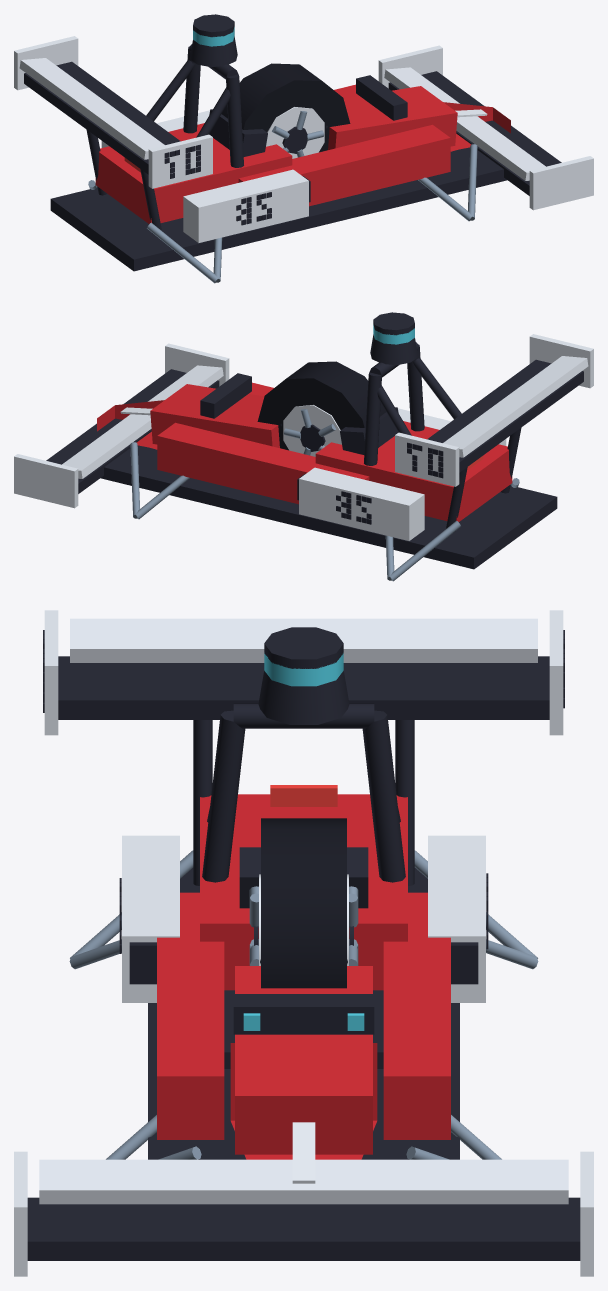
File: formula.glb
The picture shows the model from 3 angles, top to bottom: view 1: azimuth 30°, elevation 25°; view 2: azimuth 150°, elevation 25°; view 3: azimuth 270°, elevation 25°; orthographic projection. The views are drawn at different scales.
Parts seen in each view (by area): view 1: decoration_chassis_formulacarbon, decoration_chassis_formulawhite, bodyPainted, decoration_wheelCylinder_formulatire, decoration_chassis_formulametal, wheelPainted, decoration_wheelCylinder_formulacarbon, decoration_wheelCylinder_formulametal, decoration_chassis_formulalens; view 2: decoration_chassis_formulacarbon, decoration_chassis_formulawhite, bodyPainted, decoration_wheelCylinder_formulatire, decoration_chassis_formulametal, wheelPainted, decoration_wheelCylinder_formulacarbon, decoration_wheelCylinder_formulametal, decoration_chassis_formulalens; view 3: decoration_chassis_formulacarbon, decoration_chassis_formulawhite, bodyPainted, decoration_wheelCylinder_formulatire, decoration_chassis_formulametal, decoration_chassis_formulalens, stopLights, decoration_wheelCylinder_formulametal.
Boxes of the visible parts, x1,y1,x2,y2 form: decoration_chassis_formulacarbon: (24,14,561,271); decoration_chassis_formulawhite: (14,36,593,242); bodyPainted: (95,84,510,223); decoration_wheelCylinder_formulatire: (221,63,350,152); decoration_chassis_formulametal: (88,144,477,283); wheelPainted: (266,107,324,158); decoration_wheelCylinder_formulacarbon: (282,126,307,153); decoration_wheelCylinder_formulametal: (272,111,323,157); decoration_chassis_formulalens: (193,27,234,46); decoration_chassis_formulacarbon: (46,312,583,569); decoration_chassis_formulawhite: (14,334,593,540); bodyPainted: (97,382,512,521); decoration_wheelCylinder_formulatire: (257,361,386,450); decoration_chassis_formulametal: (130,442,519,581); wheelPainted: (283,405,341,456); decoration_wheelCylinder_formulacarbon: (300,424,325,451); decoration_wheelCylinder_formulametal: (284,409,335,455); decoration_chassis_formulalens: (373,325,414,344); decoration_chassis_formulacarbon: (27,627,580,1260); decoration_chassis_formulawhite: (14,610,593,1276); bodyPainted: (157,794,450,1159); decoration_wheelCylinder_formulatire: (261,818,346,988); decoration_chassis_formulametal: (69,850,538,1159); decoration_chassis_formulalens: (243,653,364,1030); stopLights: (270,785,337,806); decoration_wheelCylinder_formulametal: (249,886,358,965).
Bounding box in the file's own units: 3.08 × 1.36 × 1.89.
